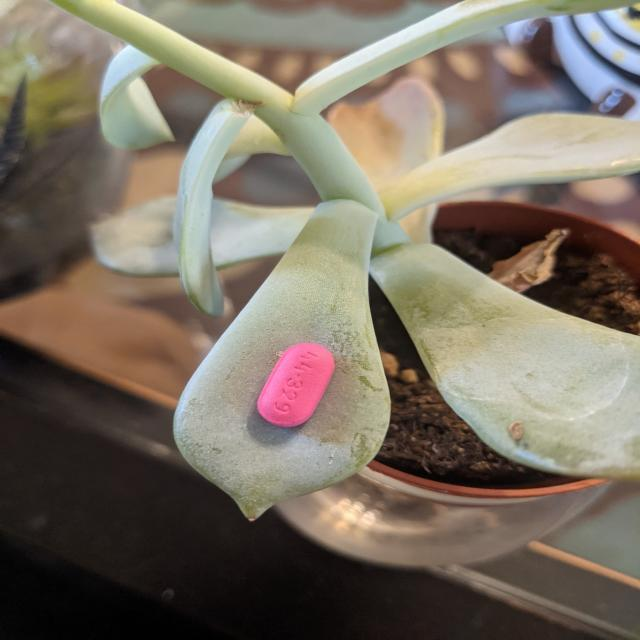non-organic waste: (255, 341, 336, 428)
